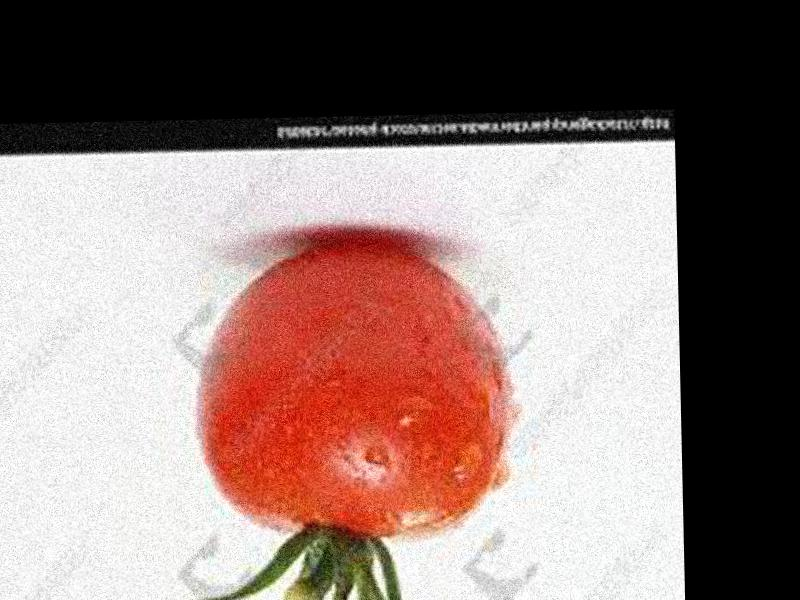Tomato: (193, 240, 512, 537)
